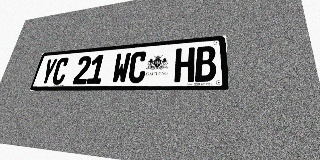1: (86, 54, 106, 84)
2: (72, 55, 92, 84)
B: (195, 46, 216, 82)
C: (127, 51, 148, 83), (50, 57, 70, 85)
H: (174, 47, 195, 82)
W: (111, 52, 131, 84)
Y: (39, 58, 58, 85)
